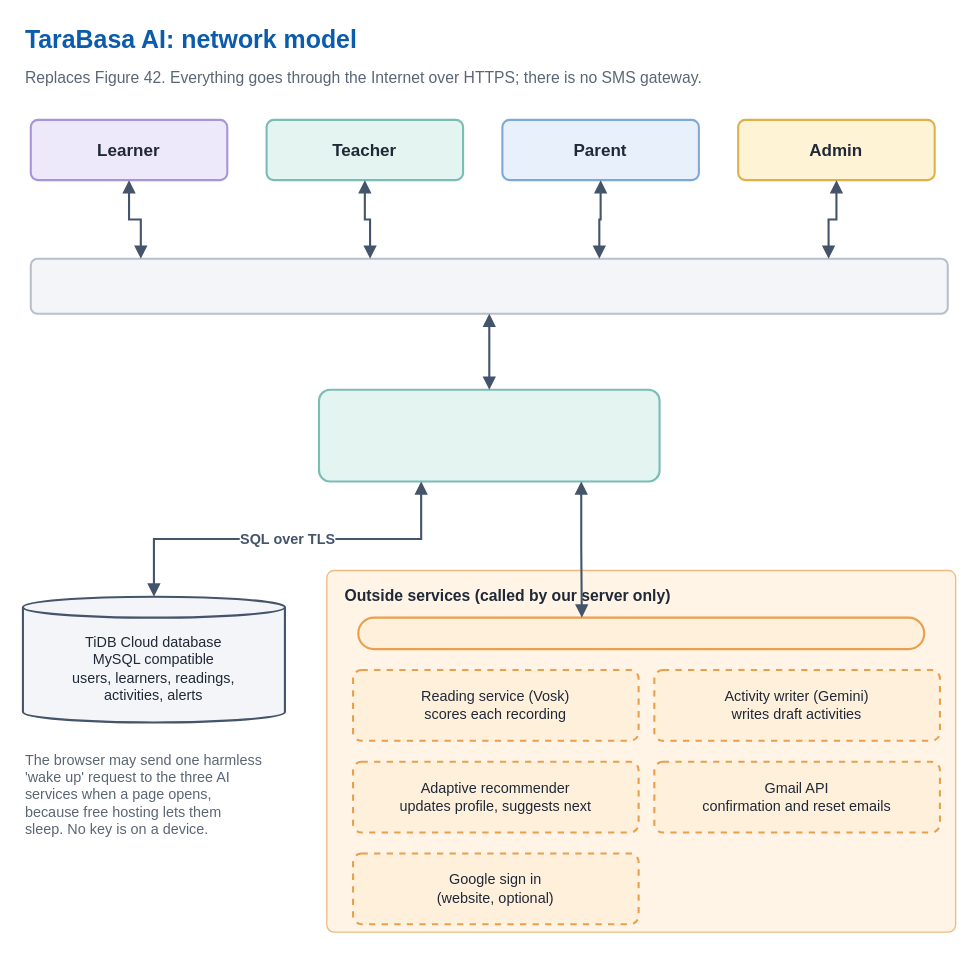
The diagram is 980 pixels wide and 955 high, and some of its shapes have lost their labels. The centre of each missing label's shape, as x and y in pixels:
"Application server Laravel 13 on Render (Singapore) website, API, rules, worker" belongs at point 488,435.
"HTTPS calls from the server (keys stay on the server)" belongs at point 641,632.
"School or home network, ISP router, mobile data > the Internet (HTTPS with TLS)" belongs at point 488,285.
